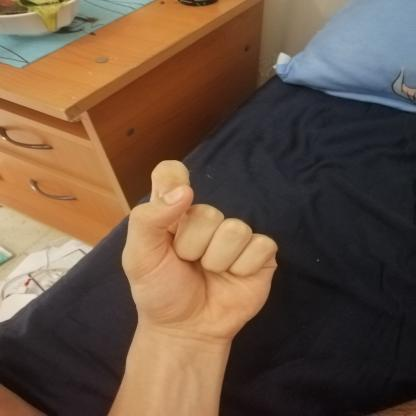FAA: (103, 148, 295, 353)
